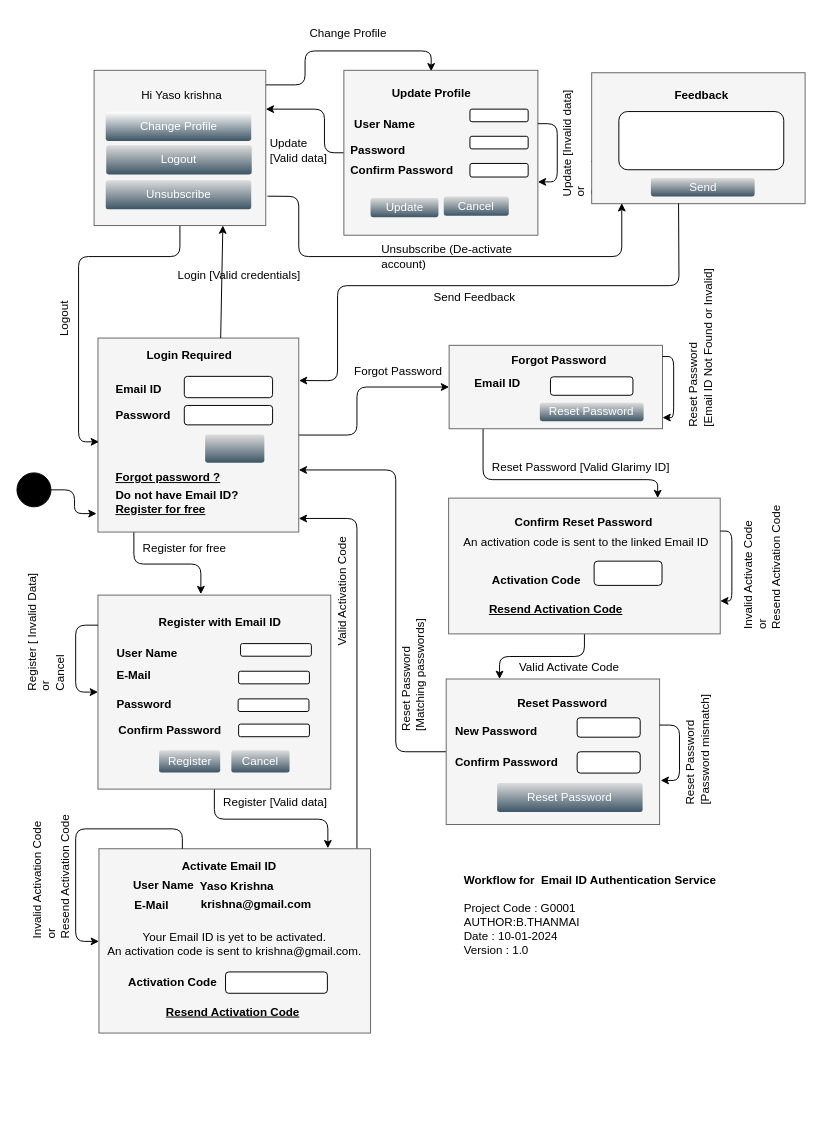
Image size: 823x1142. Some labels were removed from this diagram. The shapes that lost their labels are listed below. From the top down, each one's centre as x and y in pixels, then its label:
At (x=234, y=448): "Login".
At (x=33, y=489): "START".
